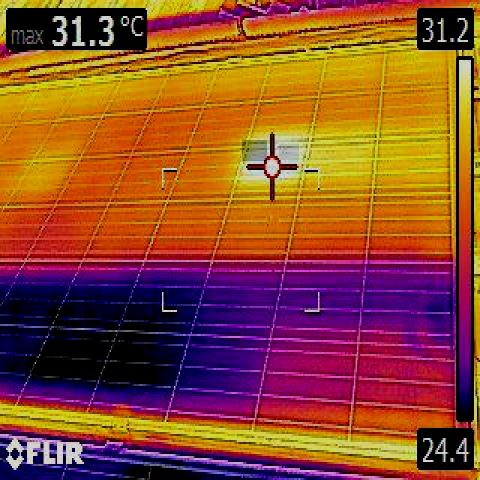fault: (242, 140, 267, 161), (280, 144, 300, 160)
